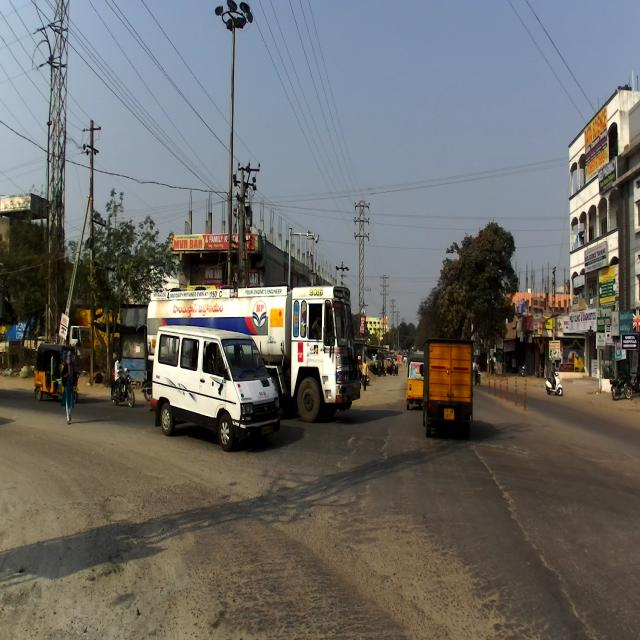car ahead at: (147, 324, 282, 450)
person ahead at: (57, 340, 83, 427)
truck ahead at: (290, 287, 361, 420), (423, 338, 475, 435)
